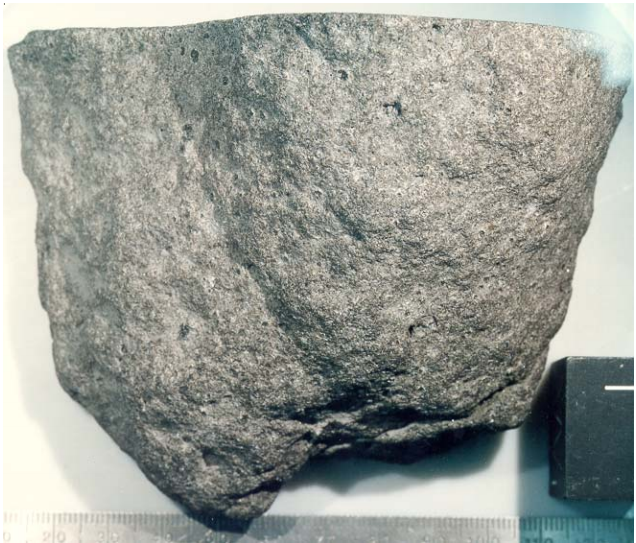Basalt: (12, 26, 610, 362), (61, 140, 548, 516)
